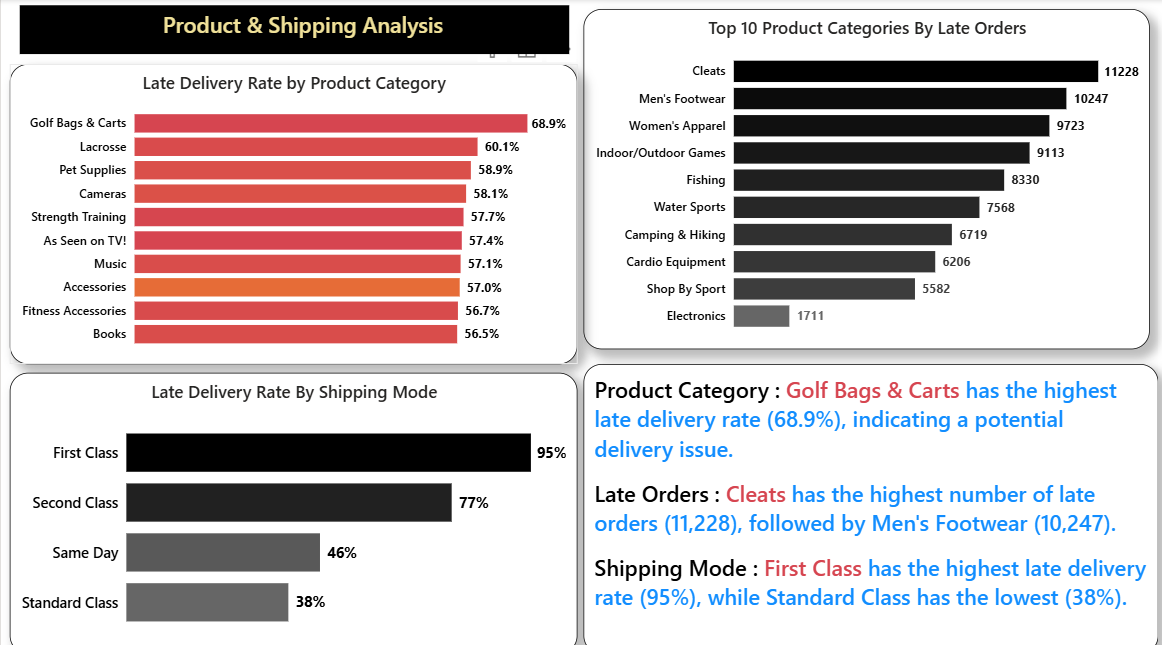

The dashboard page shown, as its layout file describes it:
{"tool":"powerbi","page":{"name":"Page 2","canvas":[1280,720],"ordinal":1},"visuals":[{"type":"barChart","title":" Top 10 Product Categories By Late Orders ","fields":{"Y":["DataCoSupplyChainDataset1.late orders"],"Category":["DataCoSupplyChainDataset1.Category_Name"]},"box":[639.4,11,622.1,389.6],"z":0},{"type":"barChart","title":"Late Delivery Rate  by Product Category","fields":{"Y":["DataCoSupplyChainDataset1.Late Delivery %"],"Category":["DataCoSupplyChainDataset1.Category_Name"]},"box":[9.4,70.7,623.7,329.9],"z":1000},{"type":"barChart","title":"Late Delivery  Rate By Shipping Mode ","fields":{"Y":["DataCoSupplyChainDataset1.Late Delivery %"],"Category":["DataCoSupplyChainDataset1.Shipping_Mode"]},"box":[9.6,400.7,623,318.4],"z":2000},{"type":"textbox","box":[20.4,6.3,603.2,53.4],"z":3000},{"type":"textbox","box":[639.5,400.7,631.2,318.4],"z":4000}]}

Visuals, with their boxes in screenshot pixels (x1, y1, x2, y2), scaled from the page's 1280x720 canvas onto the 1162x645 screenshot:
" Top 10 Product Categories By Late Orders " barChart: box(580, 10, 1145, 359)
"Late Delivery Rate  by Product Category" barChart: box(9, 63, 575, 359)
"Late Delivery  Rate By Shipping Mode " barChart: box(9, 359, 574, 644)
textbox: box(19, 6, 566, 53)
textbox: box(581, 359, 1154, 644)
